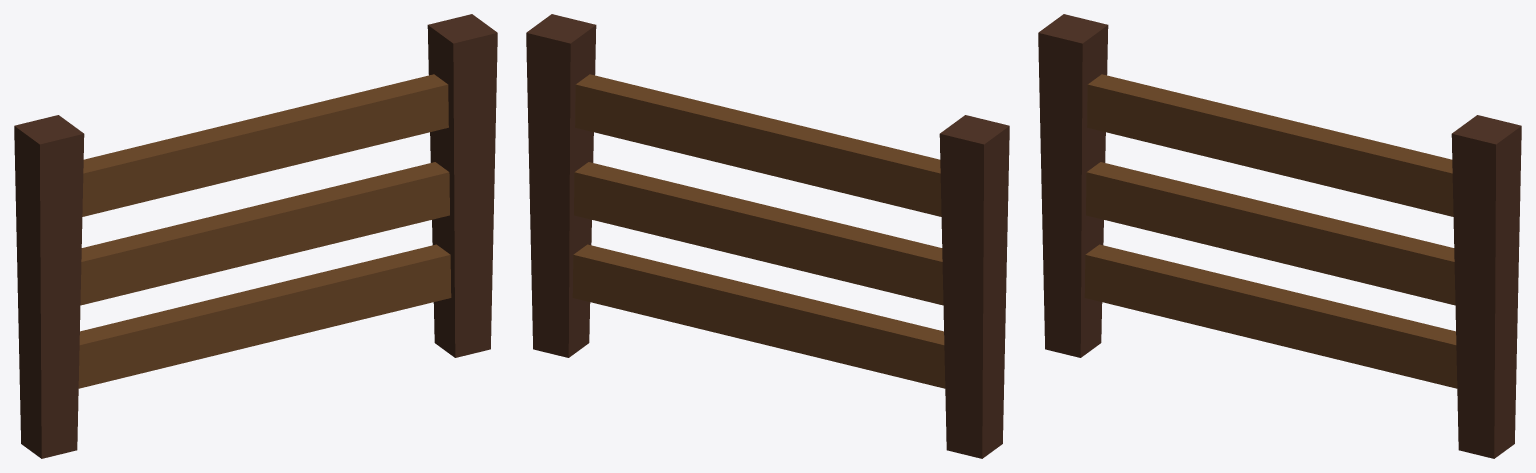
Rendered from WoodenFence.fbx.
The picture shows the model from 3 angles, left to right: view 1: azimuth 30°, elevation 25°; view 2: azimuth 150°, elevation 25°; view 3: azimuth 330°, elevation 25°; orthographic projection.
Visible parts, largest first — view 1: Fence_01; view 2: Fence_01; view 3: Fence_01.
Part boxes in pixels (bbox=[...]): Fence_01: bbox=[14, 14, 497, 458]; Fence_01: bbox=[526, 14, 1009, 458]; Fence_01: bbox=[1038, 14, 1521, 458].
Bounding box in the file's own units: 166 × 110 × 16.11.
